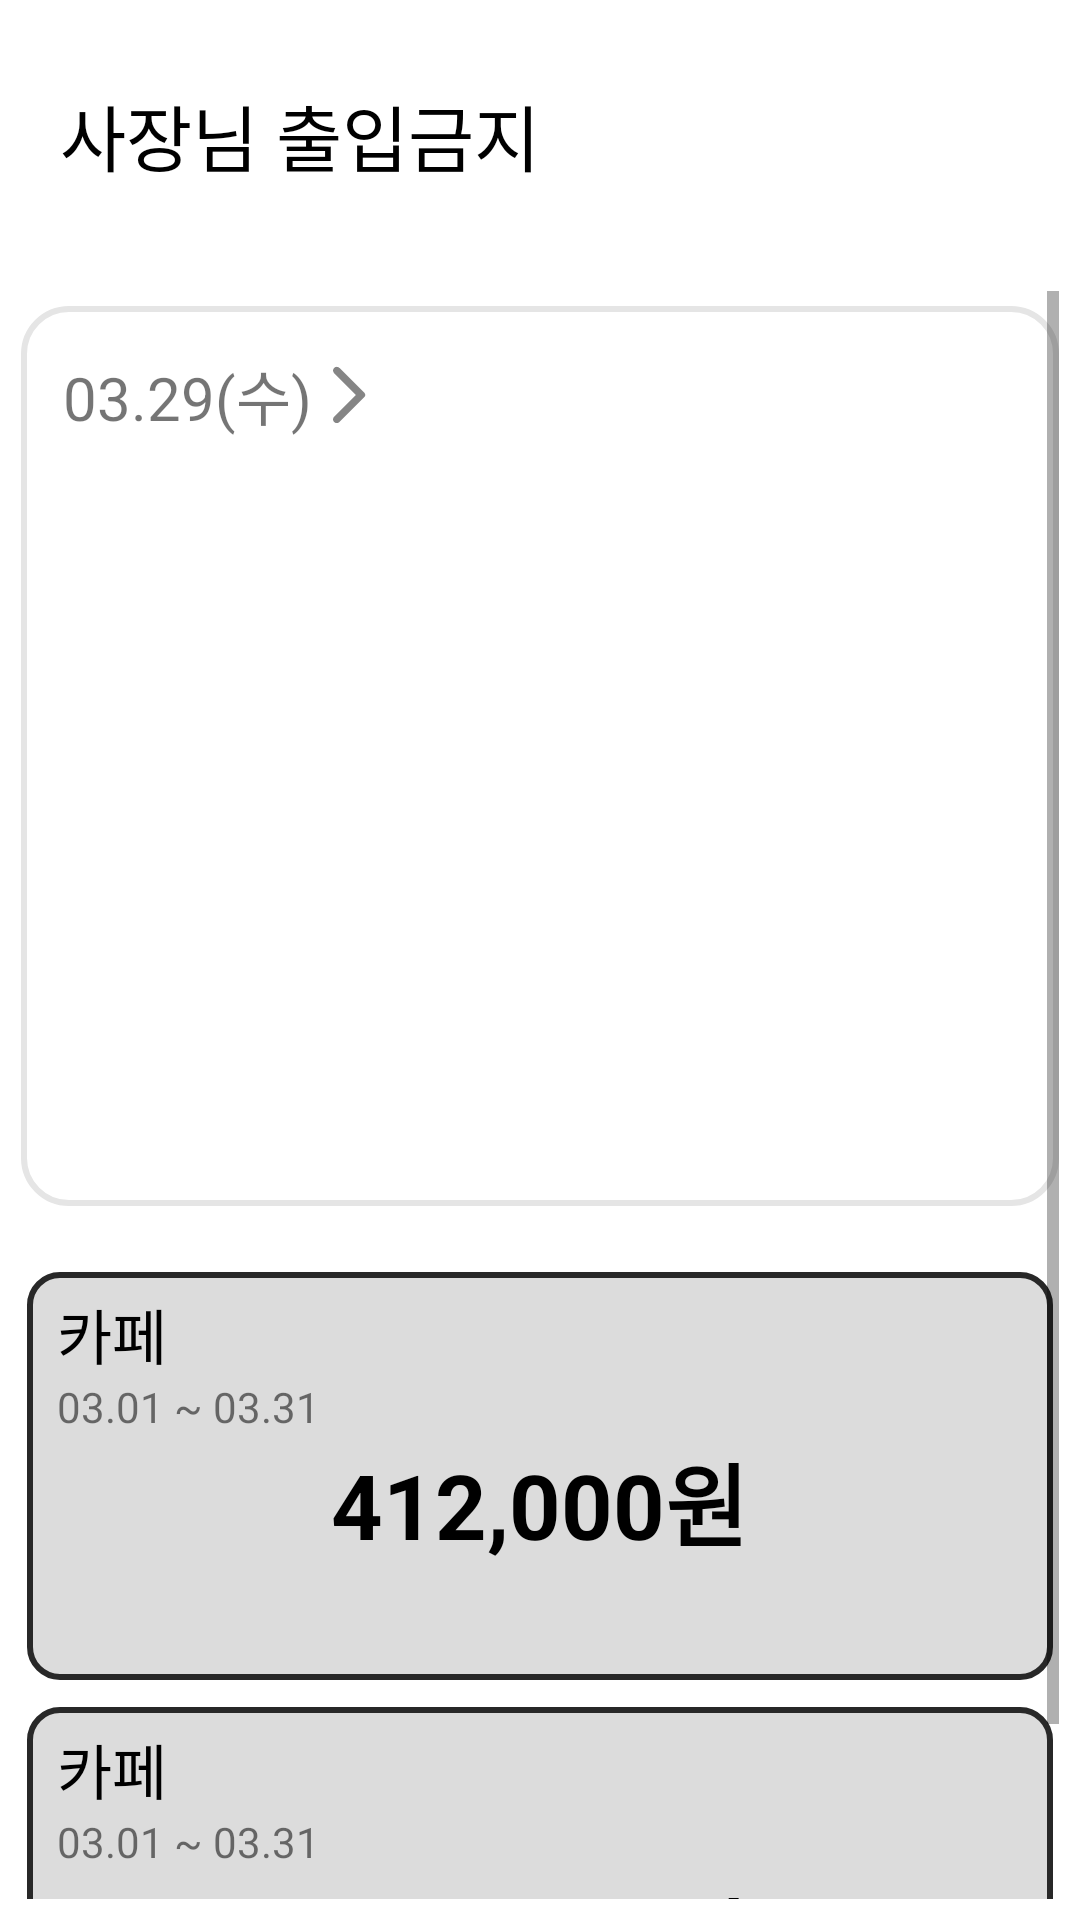

Point at icon controls on the screen. Image size 1080px×1920px, points as (x=x, y=y).
arrow right: (x=349, y=395)
